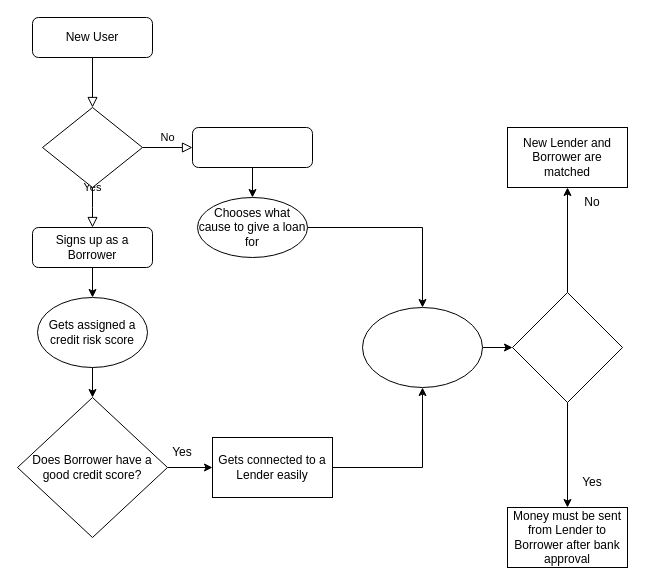
Some shapes in this 645 by 585 pixel diagram are drawn without their labels. Here are the shapes that lost their labels. From the top down, the centre of each, then its label:
At (x=92, y=147): "Needs a loan?".
At (x=252, y=147): "Signs up as a Lender".
At (x=422, y=347): "Communictaion between the borrower and lender".
At (x=567, y=347): "Loan granted?".
